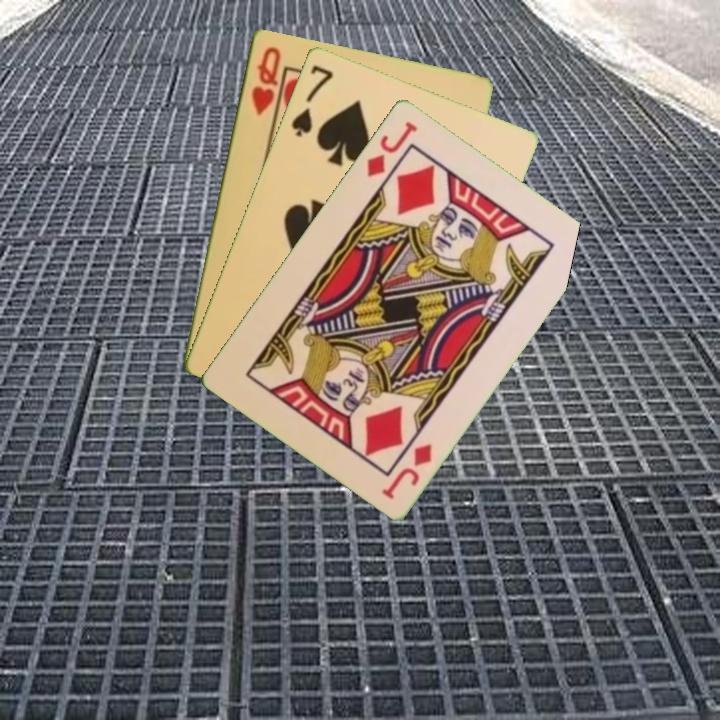7s: (287, 61, 336, 140)
Jd: (363, 116, 421, 180), (378, 439, 435, 502)
Qh: (247, 42, 284, 118)
